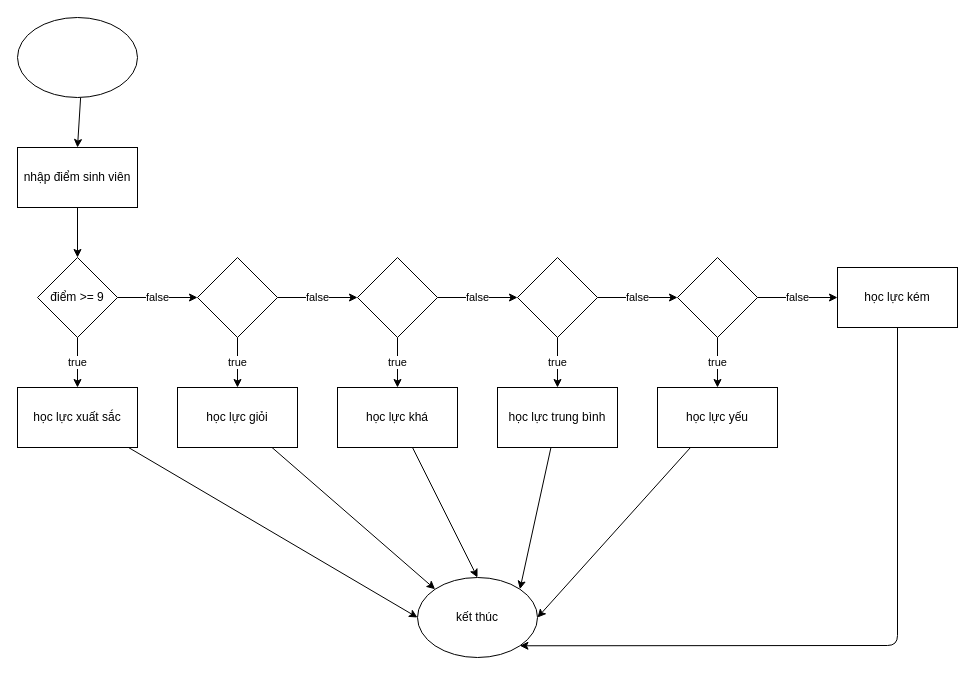
This 975x675 diagram has some shape labels left out. The shapes that lost their labels are listed below. From the top down, each one's box as (x1, y1, x2, y2) in pixels, then its label:
(16, 16, 138, 98): bắt đầu
(196, 256, 278, 338): điểm >= 8
(356, 256, 438, 338): điểm >= 6.5
(516, 256, 598, 338): điểm >= 5
(676, 256, 758, 338): điểm >= 3.5
